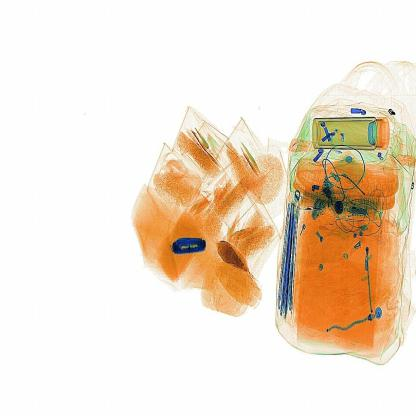scissors: (166, 231, 210, 257)
